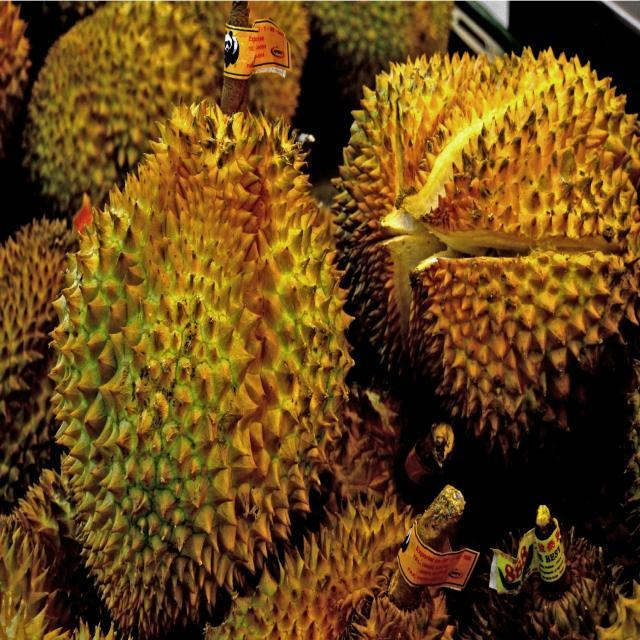mature: (54, 103, 351, 635)
